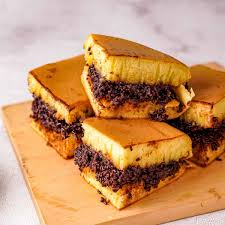Martabak manis: (71, 21, 203, 124), (70, 115, 190, 213), (22, 58, 81, 160), (182, 62, 225, 169)
